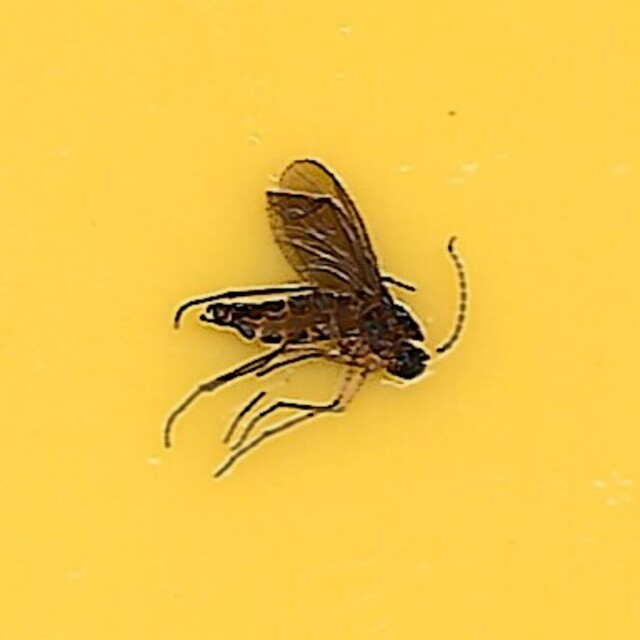Nematocera: (167, 162, 473, 478)
